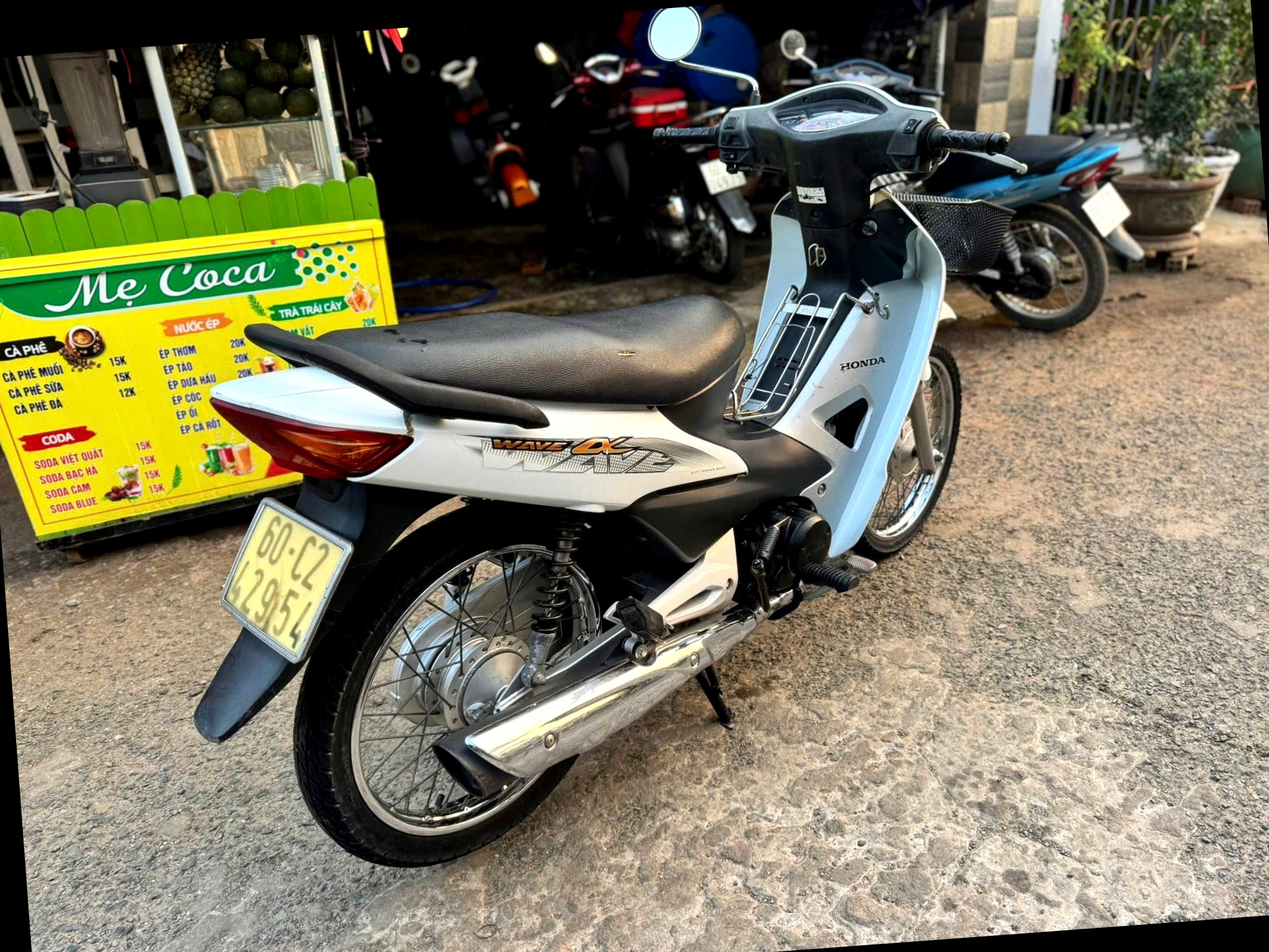Bien-so: (200, 505, 330, 672), (1029, 209, 1084, 271)
